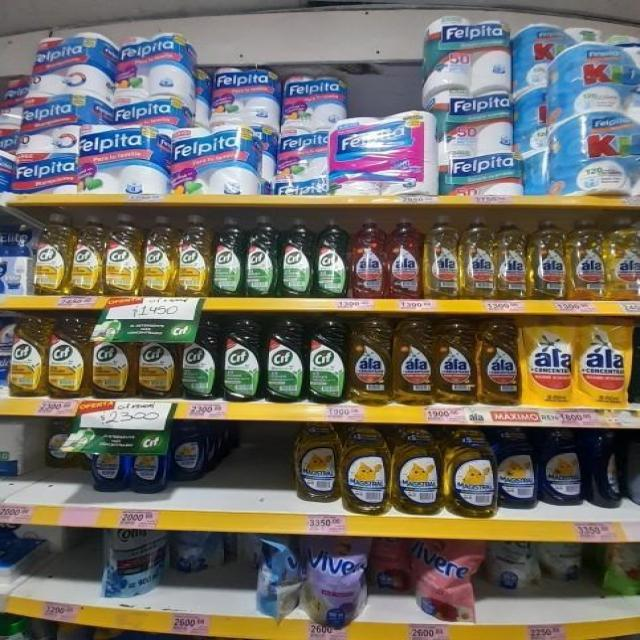ala_conc_amarillo: (349, 316, 392, 405), (477, 316, 519, 406), (393, 315, 434, 406), (435, 316, 475, 406), (423, 214, 459, 300), (568, 218, 605, 301), (530, 218, 566, 301), (606, 216, 640, 301), (461, 215, 494, 300), (496, 219, 528, 300)
ala_conc_rojo: (351, 217, 386, 300), (388, 217, 422, 300)
ala_sachet_amarillo: (577, 316, 633, 408), (522, 315, 575, 407)
cif_conc_bot_amarilla: (91, 316, 134, 399), (137, 316, 178, 400), (48, 317, 88, 399), (34, 212, 70, 296), (9, 317, 46, 398), (104, 213, 140, 296), (142, 214, 176, 297), (177, 214, 211, 297), (72, 214, 104, 296)
cif_conc_botella_verde: (264, 316, 306, 404), (306, 316, 346, 404), (222, 316, 262, 403), (180, 315, 220, 402), (280, 216, 314, 299), (212, 215, 245, 298), (245, 215, 278, 298), (316, 217, 348, 298)
magistral_con_amarillo: (444, 427, 495, 518), (391, 427, 442, 516), (341, 424, 389, 516), (292, 423, 339, 503)
magistral_con_azul: (540, 428, 585, 507), (497, 427, 538, 510), (130, 420, 168, 494), (171, 420, 208, 481), (626, 430, 640, 507)
